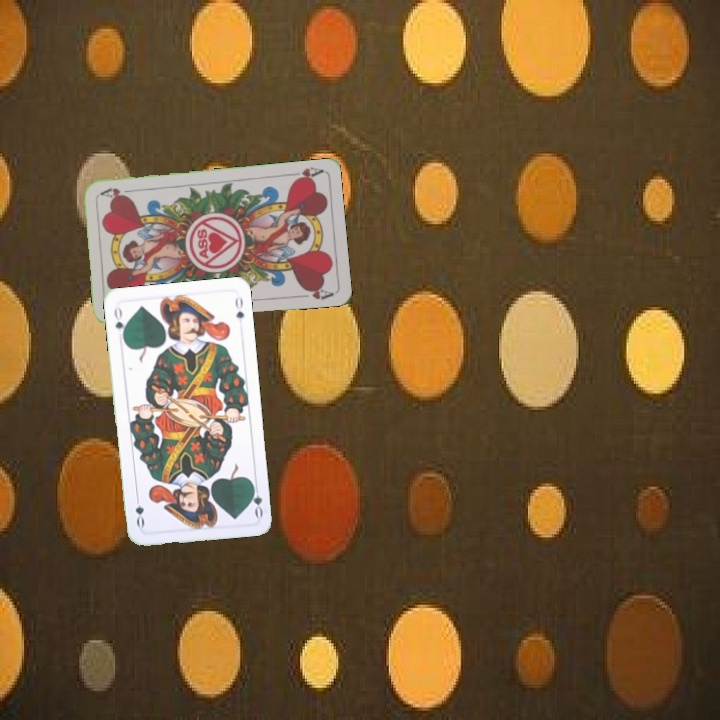GO: (246, 479, 265, 520), (110, 302, 128, 343)
HA: (284, 163, 325, 184)
